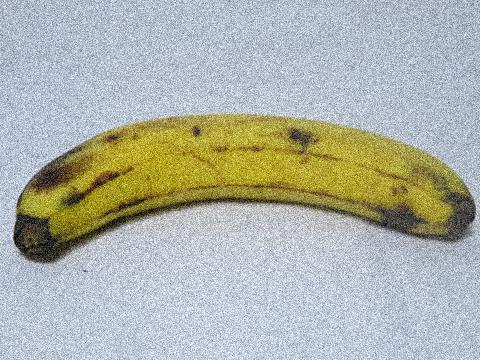ripe: (6, 82, 479, 274)
